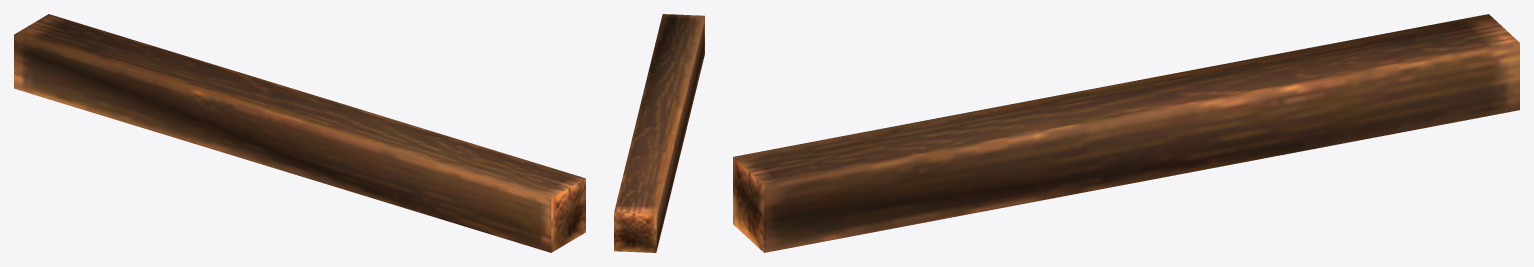
The model's file is SWORDLIGHT20_JAILBRACE88.fbx.
3 renders of one model, left to right at view 1: azimuth 30°, elevation 25°; view 2: azimuth 150°, elevation 25°; view 3: azimuth 270°, elevation 25°, orthographic. The views are drawn at different scales.
Parts seen in each view (by area): view 1: SWORDLIGHT20_JAILBRACE88; view 2: SWORDLIGHT20_JAILBRACE88; view 3: SWORDLIGHT20_JAILBRACE88.
Boxes of the visible parts, x1,y1,x2,y2 form: SWORDLIGHT20_JAILBRACE88: (14,14,585,252); SWORDLIGHT20_JAILBRACE88: (614,14,704,252); SWORDLIGHT20_JAILBRACE88: (733,14,1519,252).
Size of the model in its own units: 21779 by 4000 by 42228.
Materials: 1 (1 with a texture image).
